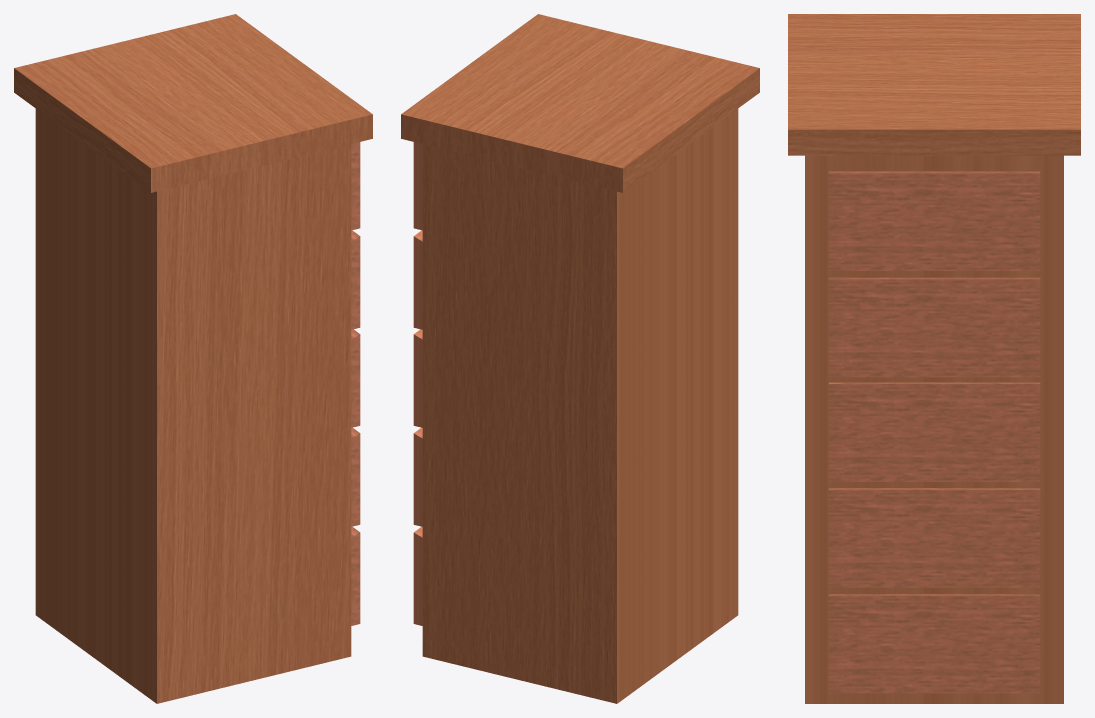
Rendered from store1.FBX.
The picture shows the model from 3 angles, left to right: view 1: azimuth 30°, elevation 25°; view 2: azimuth 150°, elevation 25°; view 3: azimuth 270°, elevation 25°; orthographic projection. The views are drawn at different scales.
Visible parts, largest first — view 1: Box001, Object002, Object004, Object005, Object003, Object001; view 2: Box001, Object002, Object004, Object005, Object003, Object001; view 3: Box001, Object002, Object001, Object003, Object004, Object005.
Boxes of the visible parts, x1,y1,x2,y2 form: Box001: (14, 14, 372, 703); Object002: (351, 230, 360, 329); Object004: (351, 427, 360, 526); Object005: (351, 526, 360, 625); Object003: (351, 329, 360, 427); Object001: (351, 142, 360, 230); Box001: (401, 14, 759, 703); Object002: (413, 230, 422, 329); Object004: (413, 427, 422, 526); Object005: (413, 526, 422, 625); Object003: (413, 329, 422, 427); Object001: (413, 142, 422, 230); Box001: (788, 14, 1080, 703); Object002: (828, 277, 1040, 377); Object001: (828, 171, 1040, 270); Object003: (828, 382, 1040, 481); Object004: (828, 488, 1040, 587); Object005: (828, 594, 1040, 693).
Size of the model in its own units: 72.14 by 165 by 75.09.
2 materials, 2 textured.
